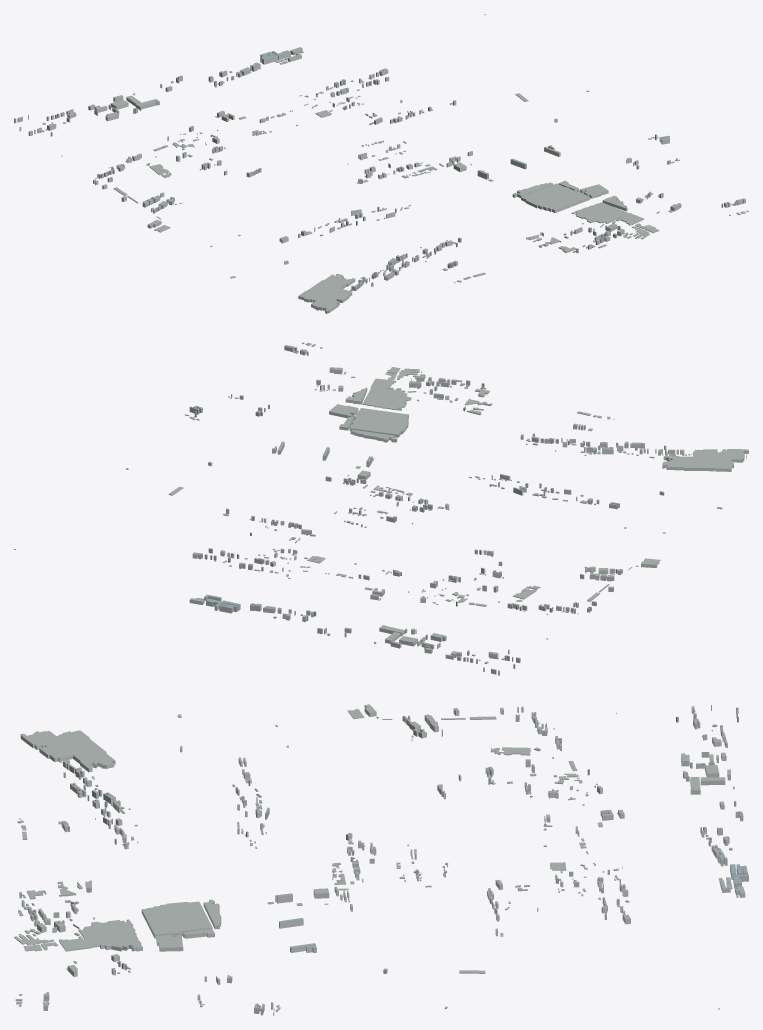
3 renders of one model, top to bottom at view 1: azimuth 30°, elevation 25°; view 2: azimuth 150°, elevation 25°; view 3: azimuth 270°, elevation 25°, orthographic. The views are drawn at different scales.
Parts seen in each view (by area): view 1: 上海全域建筑分块 · mapped building neighborhood; view 2: 上海全域建筑分块 · mapped building neighborhood; view 3: 上海全域建筑分块 · mapped building neighborhood.
Boxes of the visible parts, x1,y1,x2,y2 form: 上海全域建筑分块 · mapped building neighborhood: (14,14,748,313); 上海全域建筑分块 · mapped building neighborhood: (14,342,748,675); 上海全域建筑分块 · mapped building neighborhood: (14,704,748,1015).
Bounding box in the file's own units: 2107 × 22 × 2129.
